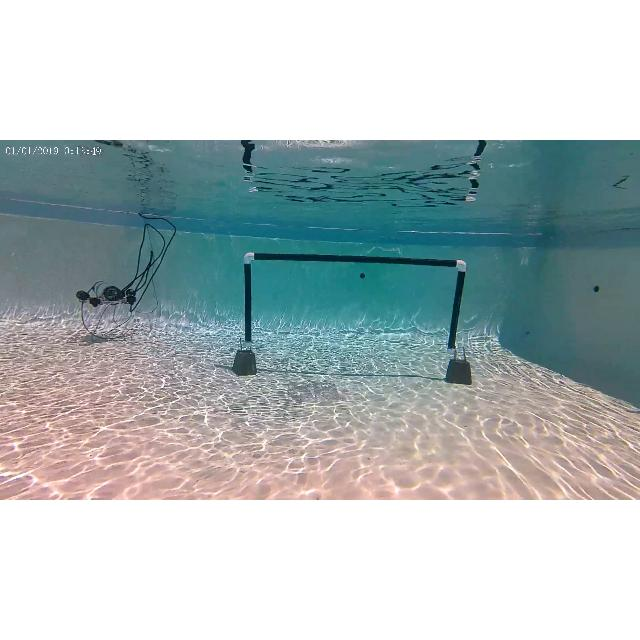prequal gate: (243, 251, 467, 351)
prequal gate leg l: (242, 252, 254, 346)
prequal gate leg r: (447, 259, 467, 353)
